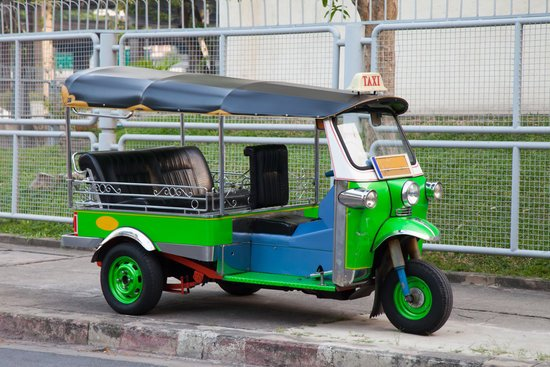threewheel: (60, 66, 454, 336)
